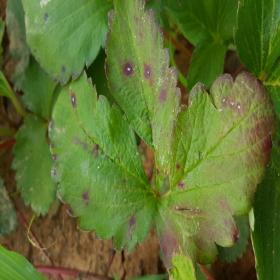Leaf Spot: (154, 71, 276, 275), (48, 69, 159, 253), (103, 0, 182, 193), (20, 0, 114, 87)
